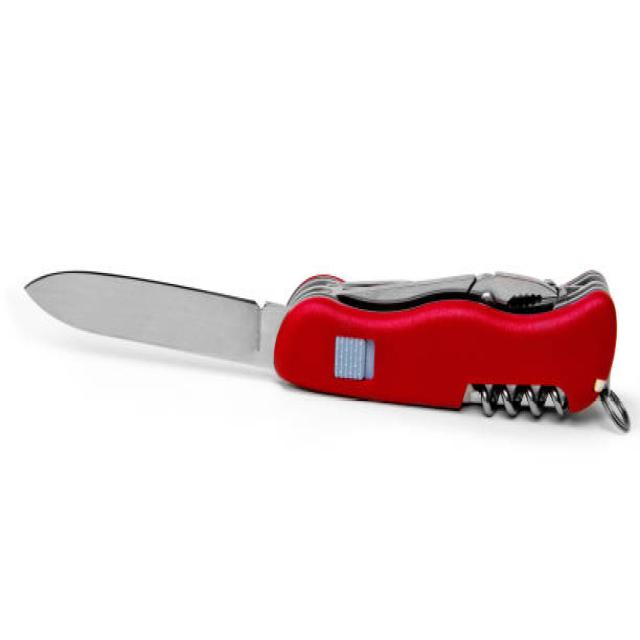knife: (16, 249, 640, 460)
